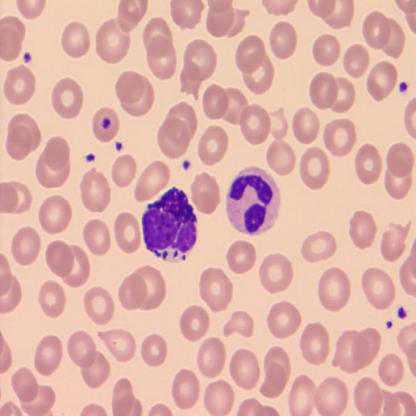Basophil: (141, 186, 198, 260)
